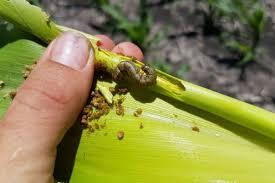fallarmy_worm: (106, 58, 160, 90)
